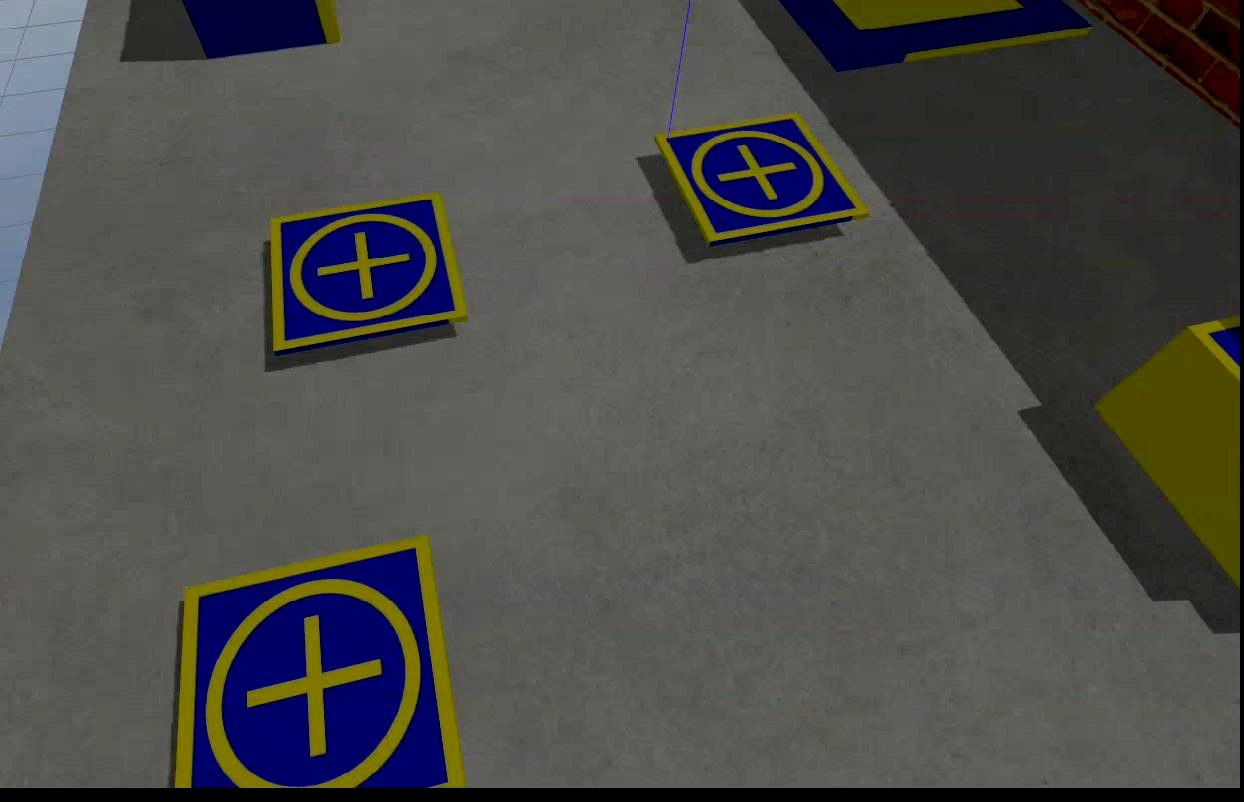large_base: (773, 1, 1092, 73)
small_base: (175, 531, 472, 788), (266, 191, 472, 356), (655, 116, 868, 245)
